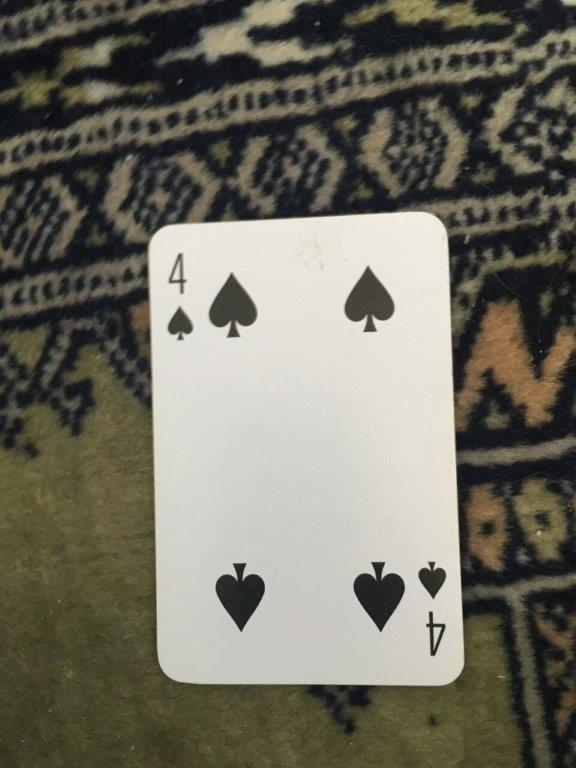4S: (142, 207, 469, 691)
